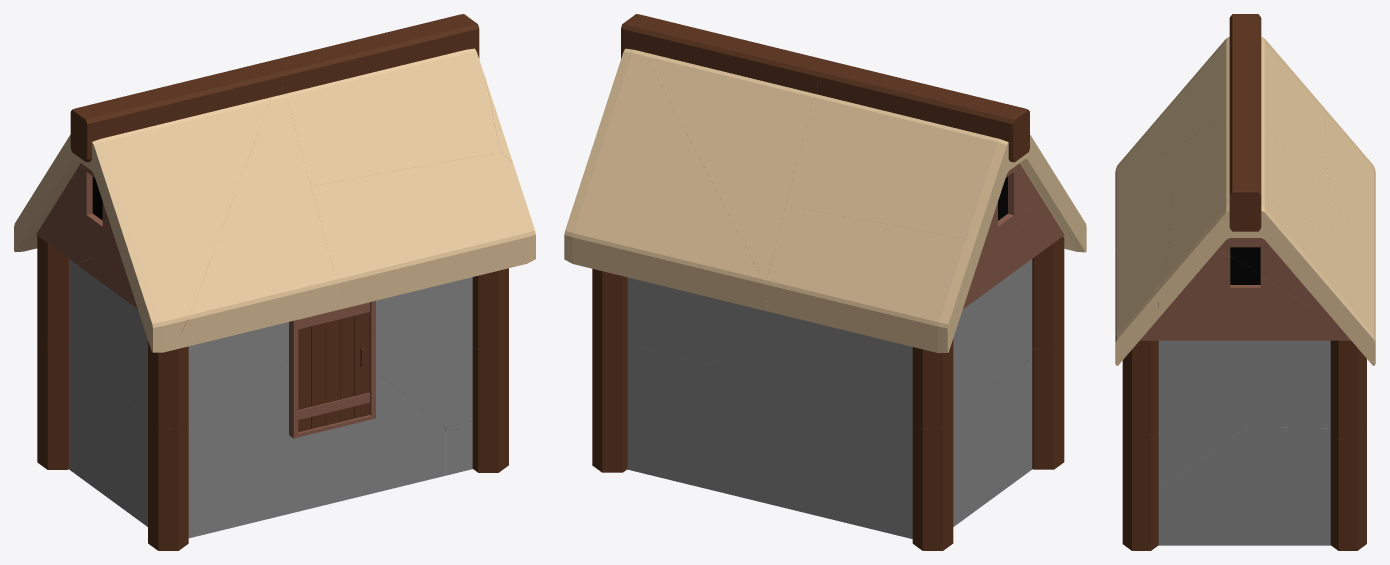
File: ExplodedHouse#3.fbx
The picture shows the model from 3 angles, left to right: view 1: azimuth 30°, elevation 25°; view 2: azimuth 150°, elevation 25°; view 3: azimuth 270°, elevation 25°; orthographic projection. The views are drawn at different scales.
Visible parts, largest first — view 1: House#3.002_cell.004, House#3.001_cell.001_cell.002, House#3.001_cell_cell.001, House#3.001_cell.001_cell, House#3.001_cell_cell.002, House#3.002_cell.002, House#3.002_cell.005, House#3.002_cell.003, House#3.003_cell.001, House#3.003_cell, House#3.015_cell.001, House#3.014_cell.001 (+20 smaller); view 2: House#3.002_cell.003, House#3.001_cell_cell, House#3.001_cell.001_cell.002, House#3.001_cell.001_cell.001, House#3.002_cell.001, House#3.001_cell_cell.002, House#3.002_cell, House#3.003_cell.001, House#3.003_cell, House#3.002_cell.005, House#3.016_cell, House#3.017_cell (+7 smaller); view 3: House#3.002_cell.001, House#3.001_cell_cell, House#3.001_cell.001_cell.002, House#3.002_cell.002, House#3.004_cell.001, House#3.001_cell_cell.002, House#3.002_cell, House#3.001_cell_cell.001, House#3.001_cell.001_cell, House#3.003_cell, House#3.014_cell.001, House#3.017_cell (+5 smaller).
Part boxes in pixels (<box>): House#3.002_cell.004: <box>125,360,445,538</box>; House#3.001_cell.001_cell.002: <box>42,97,270,352</box>; House#3.001_cell_cell.001: <box>311,152,535,310</box>; House#3.001_cell.001_cell: <box>172,94,336,350</box>; House#3.001_cell_cell.002: <box>285,48,500,185</box>; House#3.002_cell.002: <box>376,277,472,427</box>; House#3.002_cell.005: <box>69,259,288,428</box>; House#3.002_cell.003: <box>62,280,125,510</box>; House#3.003_cell.001: <box>70,62,283,161</box>; House#3.003_cell: <box>266,14,479,94</box>; House#3.015_cell.001: <box>148,422,188,550</box>; House#3.014_cell.001: <box>472,344,508,472</box>; House#3.002_cell.003: <box>770,324,996,538</box>; House#3.001_cell_cell: <box>564,48,767,311</box>; House#3.001_cell.001_cell.002: <box>786,94,1086,252</box>; House#3.001_cell.001_cell.001: <box>766,205,982,353</box>; House#3.002_cell.001: <box>627,344,770,504</box>; House#3.001_cell_cell.002: <box>645,52,815,284</box>; House#3.002_cell: <box>627,277,819,380</box>; House#3.003_cell.001: <box>817,62,1029,162</box>; House#3.003_cell: <box>621,14,833,94</box>; House#3.002_cell.005: <box>953,225,1038,383</box>; House#3.016_cell: <box>912,420,953,550</box>; House#3.017_cell: <box>592,344,627,472</box>; House#3.002_cell.001: <box>1158,427,1340,545</box>; House#3.001_cell_cell: <box>1158,201,1375,365</box>; House#3.001_cell.001_cell.002: <box>1115,37,1329,196</box>; House#3.002_cell.002: <box>1158,340,1246,488</box>; House#3.004_cell.001: <box>1140,206,1350,340</box>; House#3.001_cell_cell.002: <box>1166,123,1375,277</box>; House#3.002_cell: <box>1246,340,1330,428</box>; House#3.001_cell_cell.001: <box>1115,186,1172,365</box>; House#3.001_cell.001_cell: <box>1115,117,1229,251</box>; House#3.003_cell: <box>1229,102,1261,231</box>; House#3.014_cell.001: <box>1122,429,1158,550</box>; House#3.017_cell: <box>1330,429,1366,550</box>.
Size of the model in its own units: 1436 by 1389 by 886.
